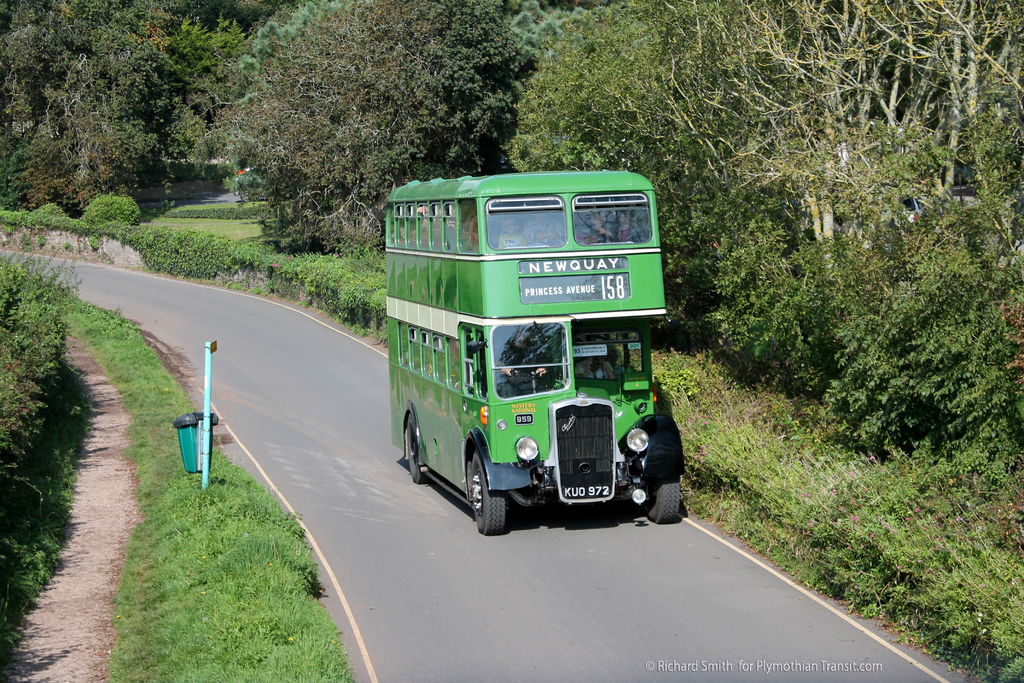Bus: (386, 167, 680, 532)
